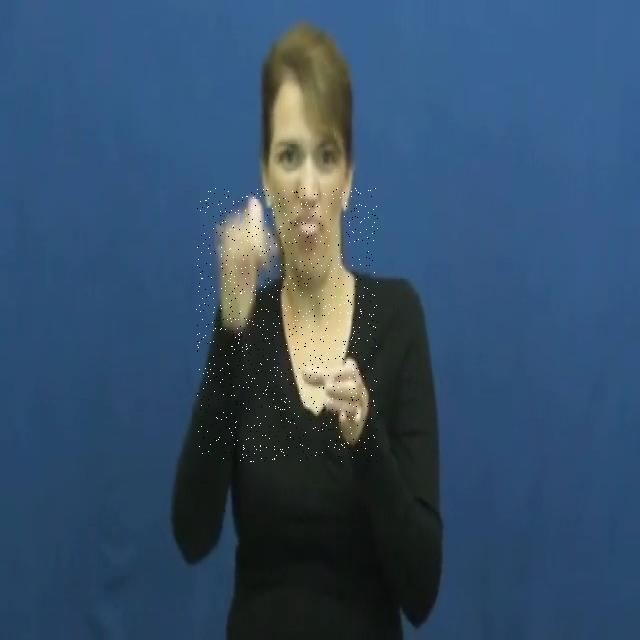straw: (196, 188, 378, 462)
